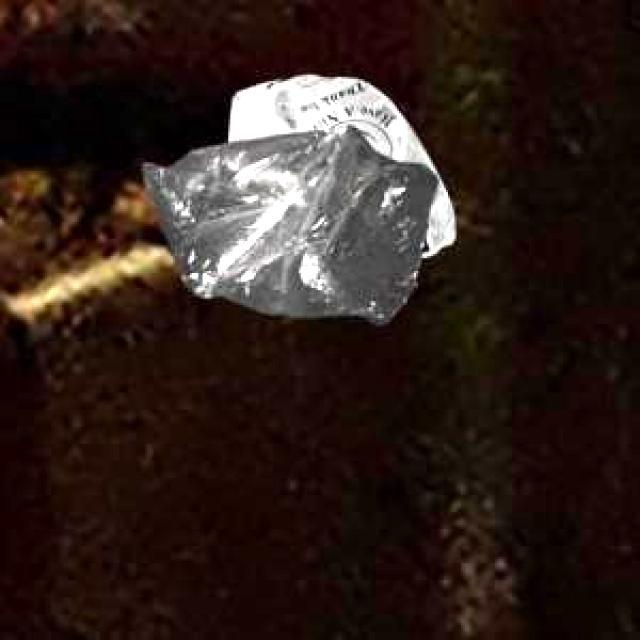Plastic_Bag: (140, 122, 434, 322), (226, 71, 452, 255)
